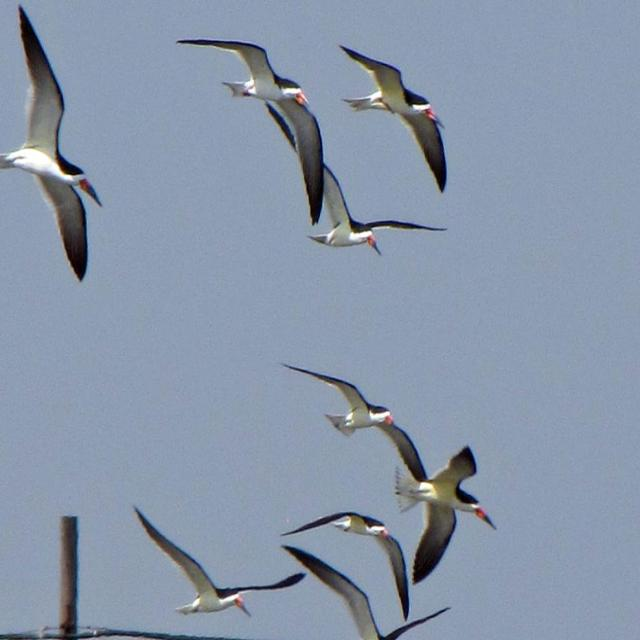bird: (0, 8, 117, 278), (171, 35, 327, 224), (382, 418, 498, 594), (273, 358, 423, 479), (134, 504, 292, 616), (278, 495, 412, 618), (337, 52, 449, 194), (282, 548, 450, 640), (298, 178, 451, 259)
